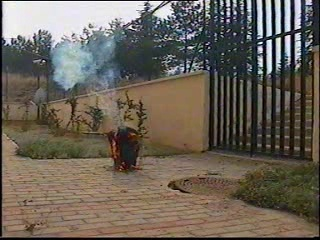smoke: (53, 35, 119, 104)
